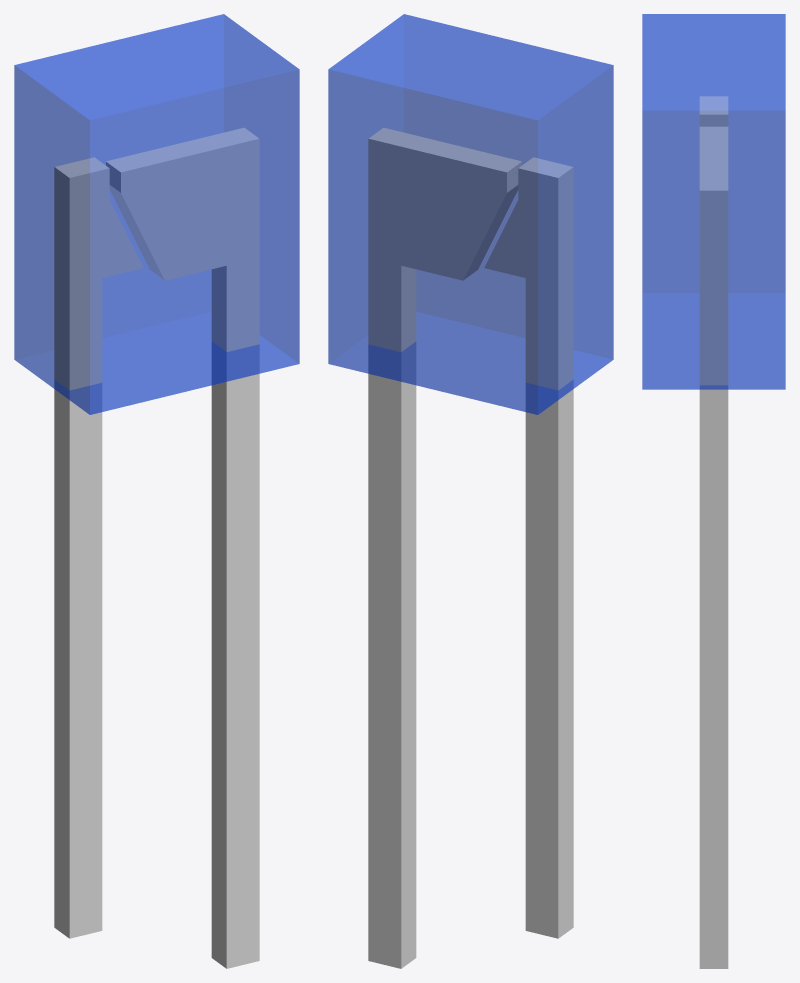
File: LED_square_3mm_blue.glb
3 views of the same model, side by side, from view 1: azimuth 30°, elevation 25°; view 2: azimuth 150°, elevation 25°; view 3: azimuth 270°, elevation 25° (orthographic). The views are drawn at different scales.
Parts seen in each view (by area): view 1: Solid1, Solid2; view 2: Solid1, Solid2; view 3: Solid1, Solid2.
Part boxes in pixels (box(x1,y1,x2,y2)): Solid1: box(14, 14, 299, 414); Solid2: box(54, 128, 259, 968); Solid1: box(328, 14, 613, 414); Solid2: box(368, 128, 573, 968); Solid1: box(642, 14, 785, 389); Solid2: box(699, 96, 728, 968).
Bounding box in the file's own units: 0.0032 × 0.0133 × 0.002.
